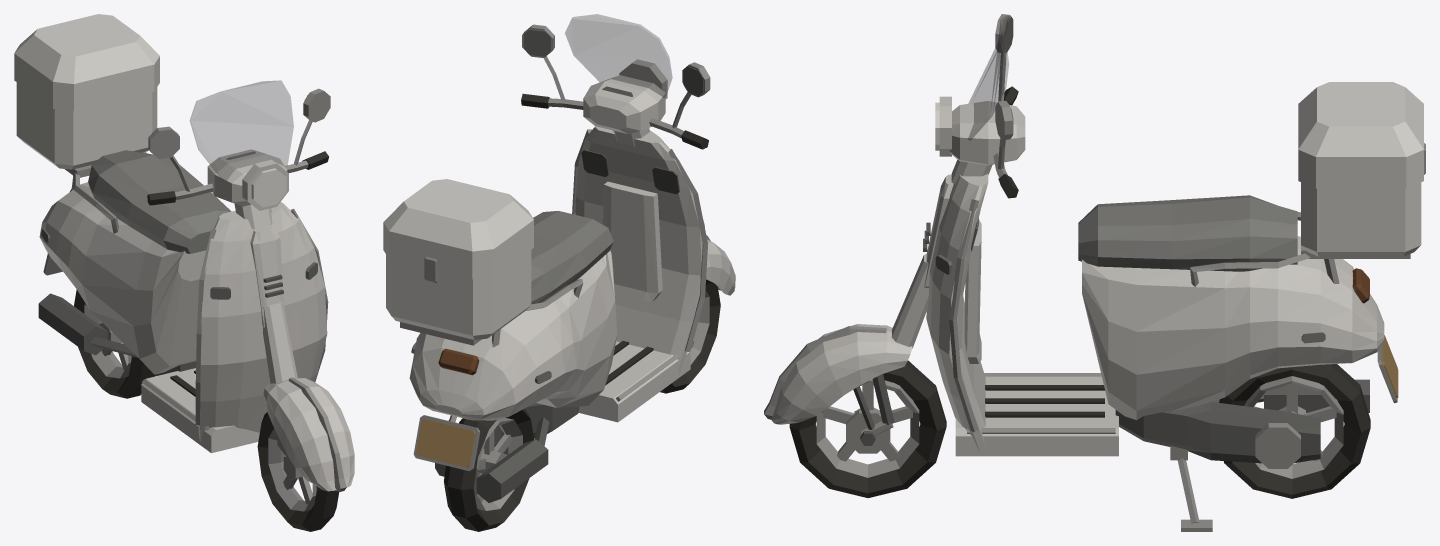
Rendered from rental-scooter-031ee2.glb.
The picture shows the model from 3 angles, left to right: view 1: azimuth 30°, elevation 25°; view 2: azimuth 150°, elevation 25°; view 3: azimuth 270°, elevation 25°; orthographic projection. The views are drawn at different scales.
Visible parts, largest first — view 1: body, top-box-shell, front-end, front-end-screen, front-wheel, rear-wheel; view 2: body, top-box-shell, front-end, front-end-screen, rear-wheel, front-wheel; view 3: body, top-box-shell, front-end, front-wheel, rear-wheel, front-end-screen.
Part boxes in pixels (x1,y1,x2,y2): body: (38, 150, 328, 453); top-box-shell: (14, 14, 159, 169); front-end: (147, 88, 354, 491); front-end-screen: (190, 80, 293, 181); front-wheel: (257, 412, 339, 531); rear-wheel: (74, 289, 155, 398); body: (400, 126, 707, 502); top-box-shell: (383, 179, 533, 339); front-end: (521, 24, 735, 295); front-end-screen: (565, 14, 672, 97); rear-wheel: (444, 409, 534, 531); front-wheel: (660, 279, 720, 393); body: (923, 174, 1410, 531); top-box-shell: (1298, 82, 1425, 256); front-end: (764, 14, 1025, 453); front-wheel: (789, 360, 946, 497); rear-wheel: (1219, 364, 1370, 498); front-end-screen: (968, 15, 1008, 140).
Size of the model in its own units: 0.6846 by 1.45 by 1.87.
